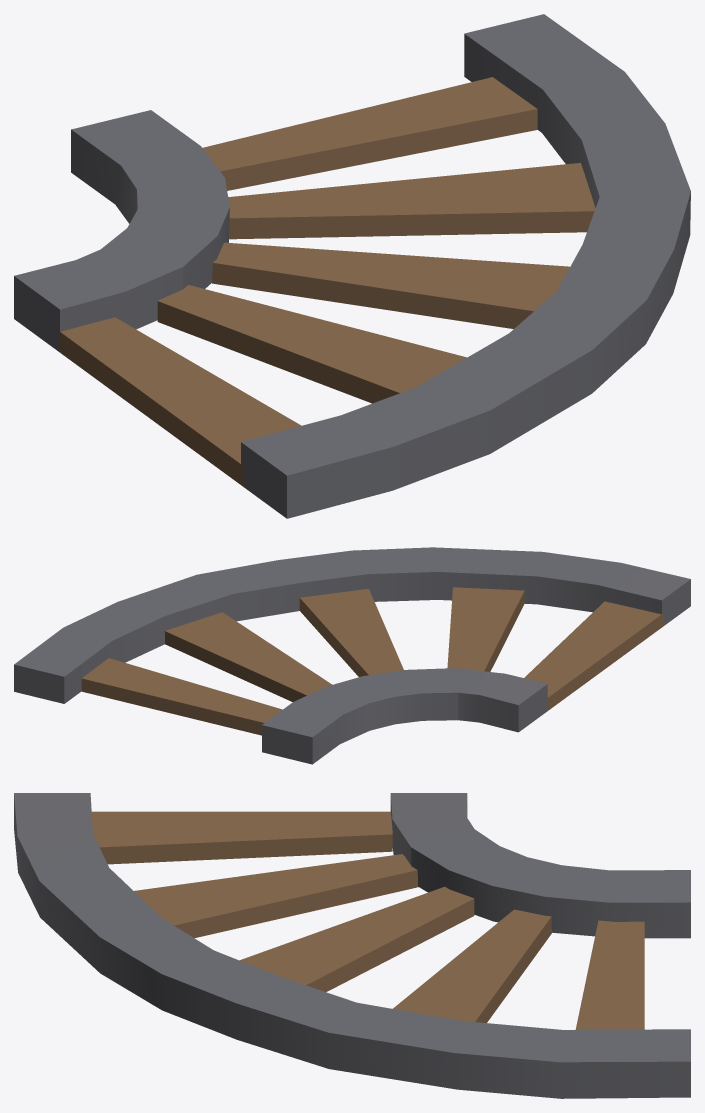
Rendered from env_crystal_track_turn.fbx.
The picture shows the model from 3 angles, top to bottom: view 1: azimuth 30°, elevation 25°; view 2: azimuth 150°, elevation 25°; view 3: azimuth 270°, elevation 25°; orthographic projection. The views are drawn at different scales.
Parts seen in each view (by area): view 1: env_crystal_track_turn_geo; view 2: env_crystal_track_turn_geo; view 3: env_crystal_track_turn_geo.
Boxes of the visible parts, <box> form: env_crystal_track_turn_geo: <box>14,14,690,518</box>; env_crystal_track_turn_geo: <box>14,547,690,764</box>; env_crystal_track_turn_geo: <box>14,793,690,1098</box>.
Size of the model in its own units: 212 by 13.39 by 225.
